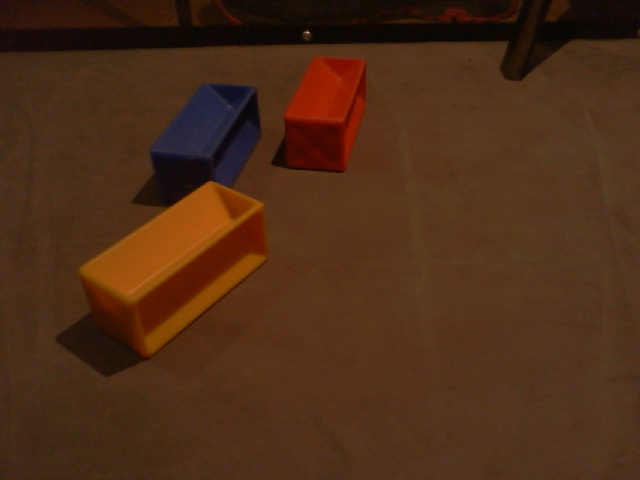BlueSample: (148, 81, 264, 201)
RedSample: (281, 56, 370, 176)
YellowSample: (74, 179, 269, 360)
